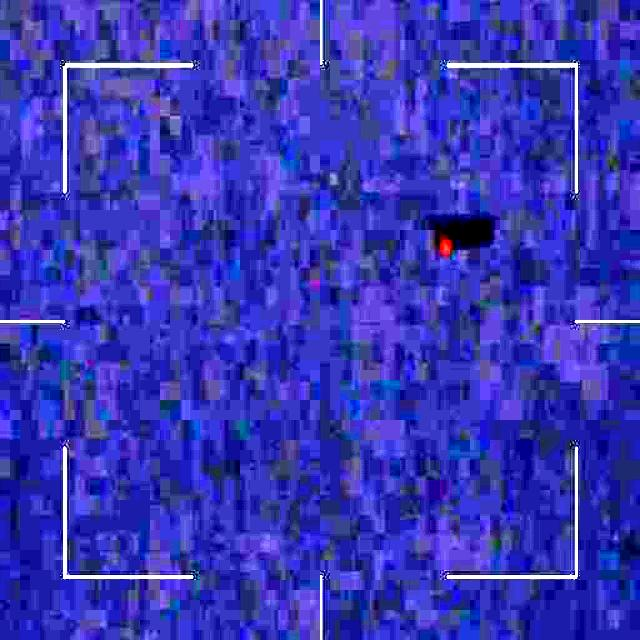bird: (432, 225, 461, 264)
